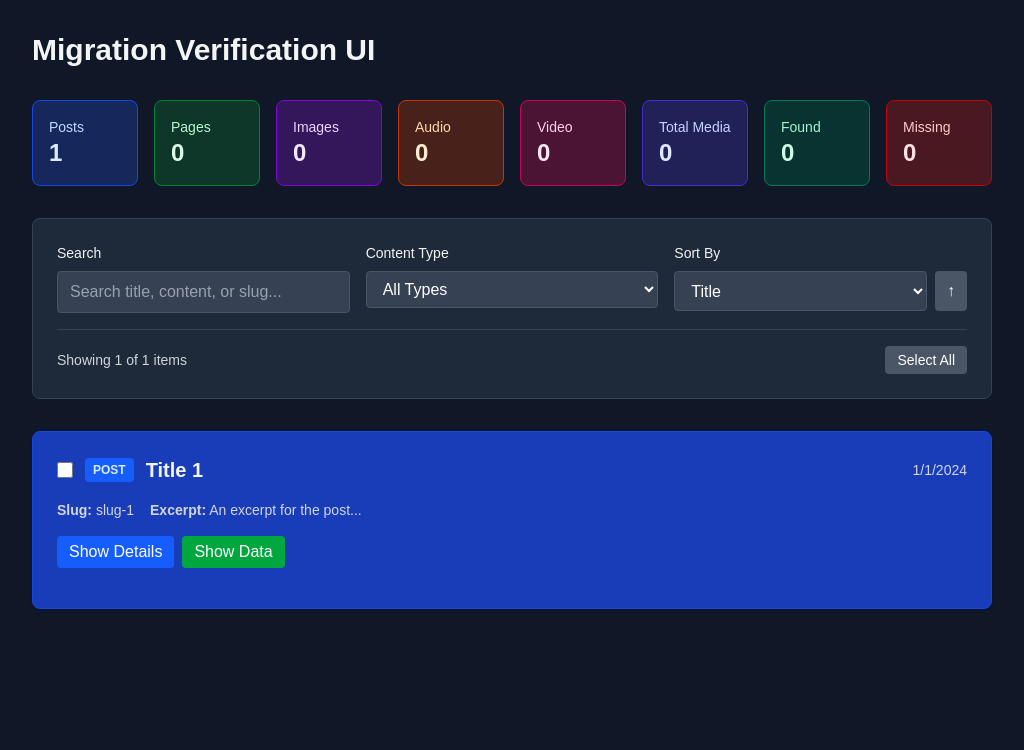
Scenario: VerifyMigrationUI — details and data toggling › renders the original post_content pre block via the Show Data branch
Expected: the heading "Title 1" is shown, [146,459,203,481]
What coordinates should you click on to do the following:
click the button "Show Data"
I would click on:
 (234, 552)
Its box is [182,536,285,568].
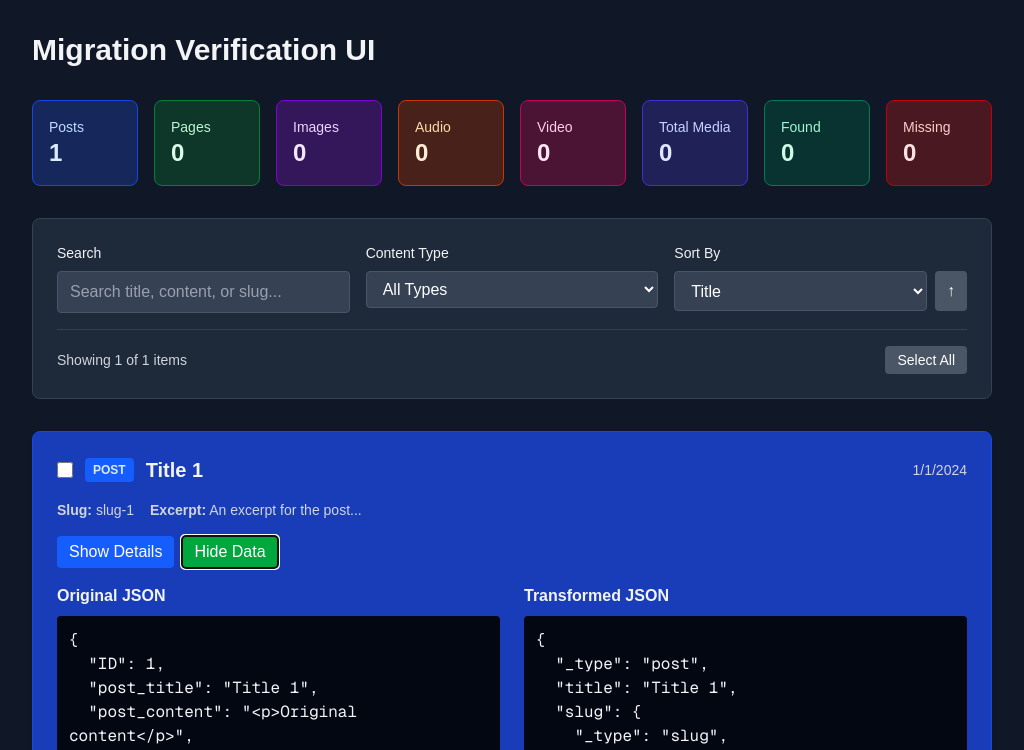
Expected: the heading "Original JSON" is shown, [57,587,166,604]
Expected: the heading "Transformed JSON" is shown, [524,587,669,604]
